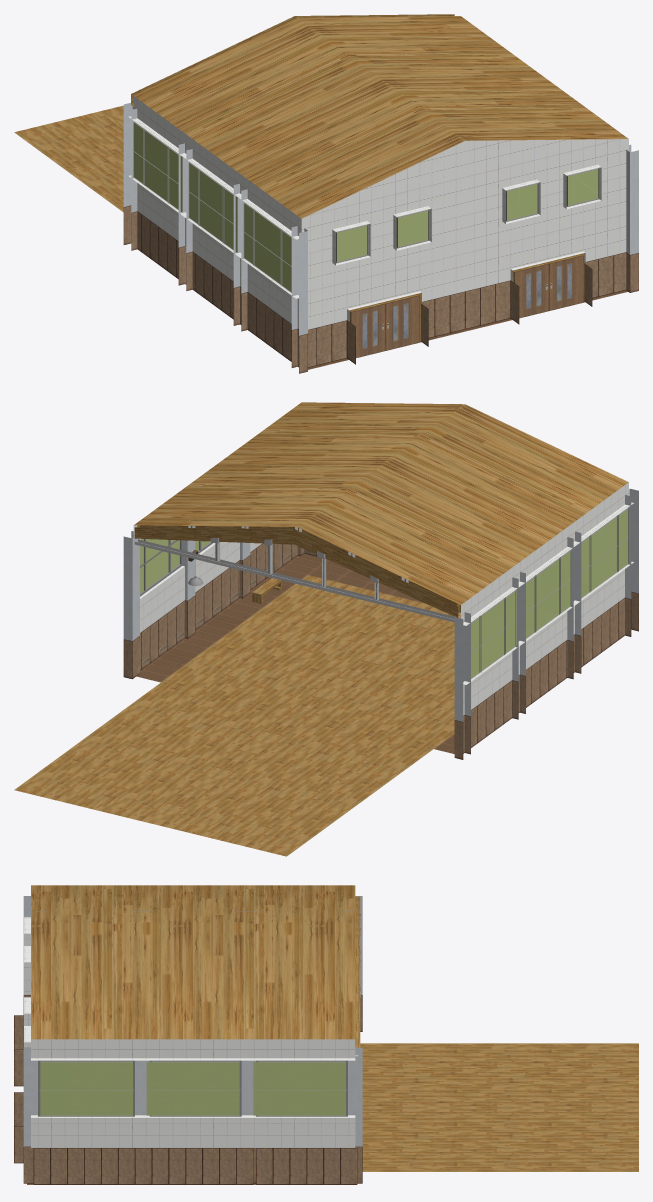
The model's file is Layout.FBX.
3 views of the same model, one above another, from view 1: azimuth 30°, elevation 25°; view 2: azimuth 150°, elevation 25°; view 3: azimuth 270°, elevation 25° (orthographic). The views are drawn at different scales.
Visible parts, largest first — view 1: Poly01, Poly12, Poly22, Glass, Poly06, Poly21, Poly09, Poly18, Poly04, Poly03, Poly05, Poly10; view 2: Poly21, Poly01, Poly22, Poly12, Glass, Poly23, Poly03, Poly09, Poly04, Poly02, Poly18, Poly05; view 3: Poly01, Poly21, Poly12, Glass, Poly22, Poly09, Poly18, Poly04, Poly03.
Part boxes in pixels (x1,y1,x2,y2): Poly01: (134,16,628,218); Poly12: (128,96,628,329); Poly22: (137,211,638,373); Glass: (134,122,598,292); Poly06: (351,255,583,357); Poly21: (14,105,123,212); Poly09: (178,143,638,335); Poly18: (133,121,599,292); Poly04: (123,103,137,212); Poly03: (131,14,454,106); Poly05: (123,205,137,250); Poly10: (349,253,584,341); Poly21: (14,575,454,856); Poly01: (134,402,628,604); Poly22: (140,543,638,753); Poly12: (133,482,633,715); Glass: (140,509,628,678); Poly23: (136,553,454,753); Poly03: (134,525,460,617); Poly09: (182,488,638,681); Poly04: (123,531,470,721); Poly02: (134,526,460,622); Poly18: (140,508,628,678); Poly05: (123,636,470,759); Poly01: (31,885,355,1039); Poly21: (360,1043,638,1171); Poly12: (24,917,355,1147); Glass: (40,1062,345,1115); Poly22: (14,995,357,1184); Poly09: (23,896,255,1146); Poly18: (38,1060,347,1116); Poly04: (348,896,362,1146); Poly03: (355,896,360,1047).
Bounding box in the file's own units: 1869 × 992 × 3083.
